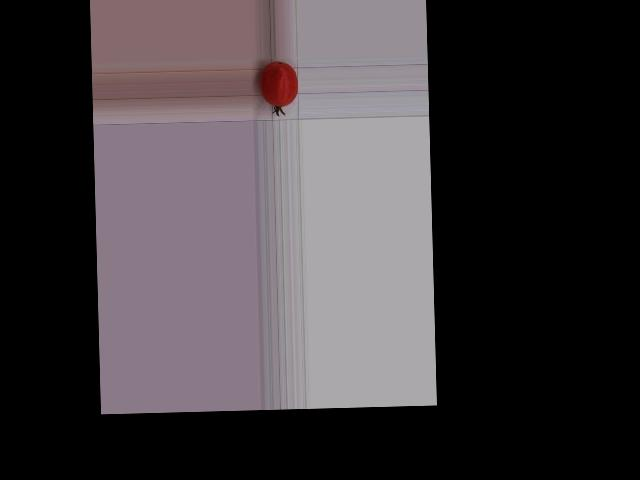tomato: (259, 60, 298, 107)
